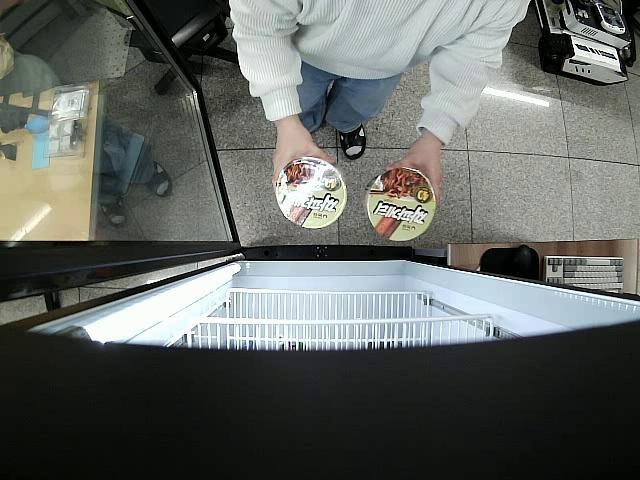03_chapagetti_L: (366, 166, 436, 245), (274, 156, 348, 228)
